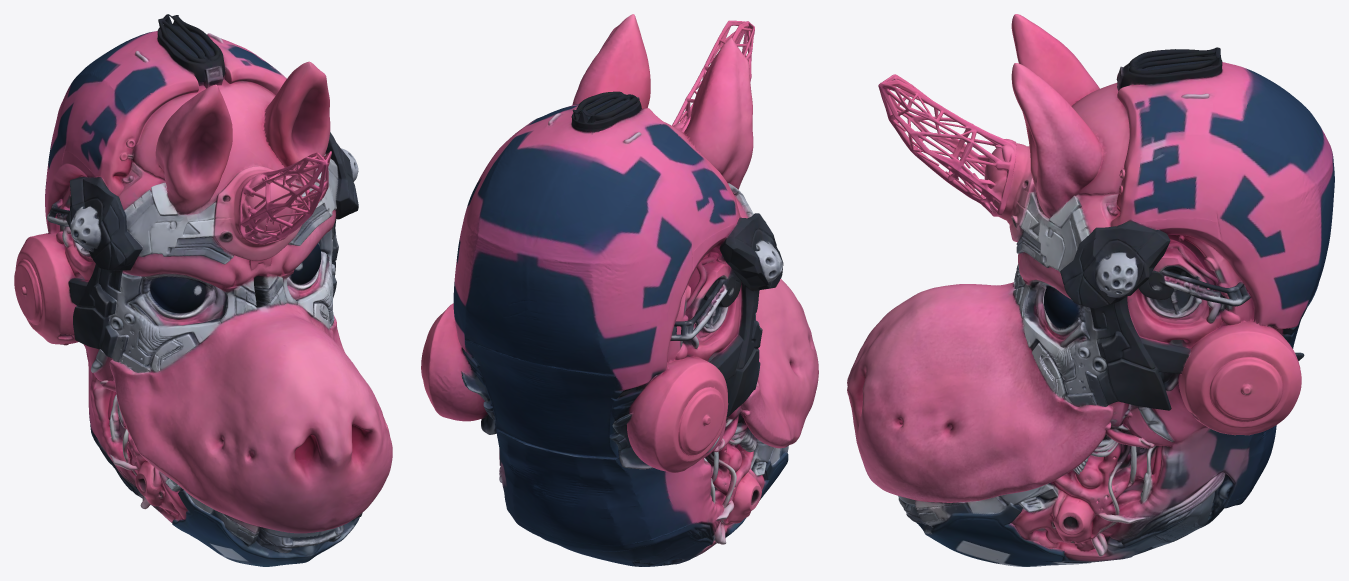
Rendered from unibrowserloadicorn.glb.
The picture shows the model from 3 angles, left to right: view 1: azimuth 30°, elevation 25°; view 2: azimuth 150°, elevation 25°; view 3: azimuth 270°, elevation 25°; orthographic projection. The views are drawn at different scales.
Visible parts, largest first — view 1: tripo_node_344c665d-6cfb-4fd7-8ec6-56af9abf47e1; view 2: tripo_node_344c665d-6cfb-4fd7-8ec6-56af9abf47e1; view 3: tripo_node_344c665d-6cfb-4fd7-8ec6-56af9abf47e1.
Boxes of the visible parts, left/top/right/bottom form: tripo_node_344c665d-6cfb-4fd7-8ec6-56af9abf47e1: left=14, top=14, right=392, bottom=566; tripo_node_344c665d-6cfb-4fd7-8ec6-56af9abf47e1: left=421, top=14, right=818, bottom=566; tripo_node_344c665d-6cfb-4fd7-8ec6-56af9abf47e1: left=847, top=14, right=1334, bottom=566.
Size of the model in its own units: 1.14 by 1.85 by 1.59.
2 materials, 2 textured.
